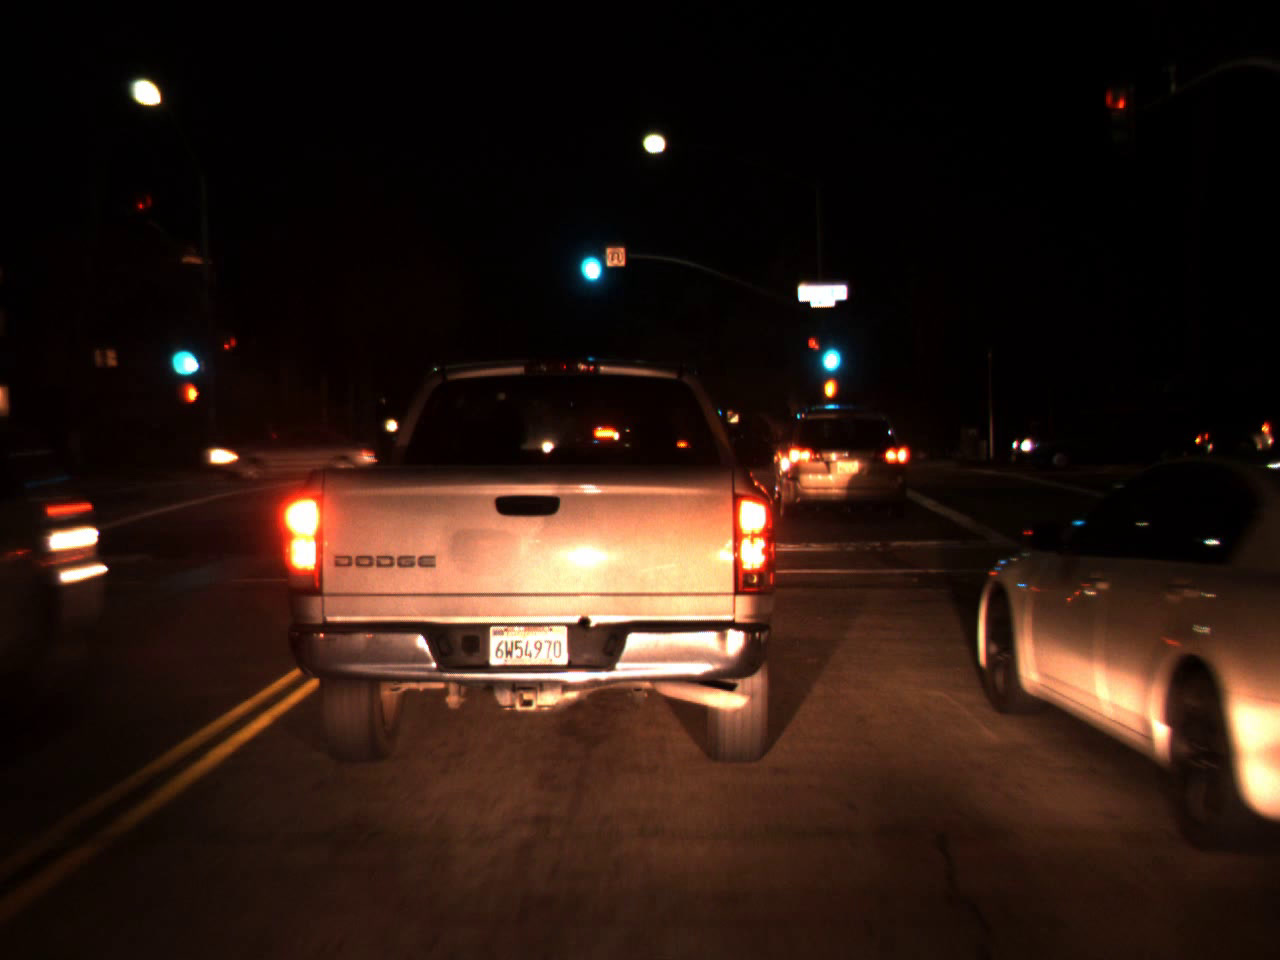go: (163, 323, 202, 380), (573, 225, 605, 291), (814, 320, 844, 380)
